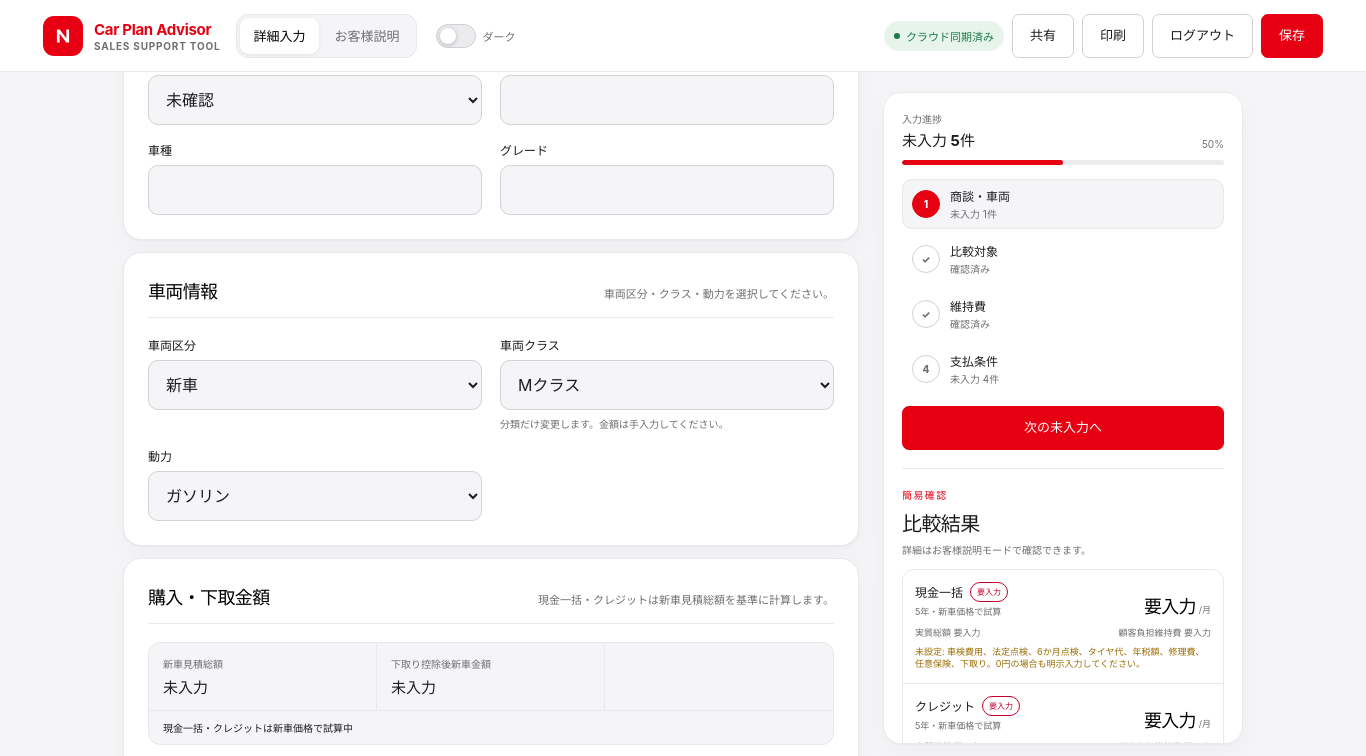
Scenario: App › uses the used-car price field and shows the price basis
(page scrolled)
Select "中古車" in the dropdown named "車両区分". click: (315, 385)
box: [148, 360, 482, 410]
(page scrolled)
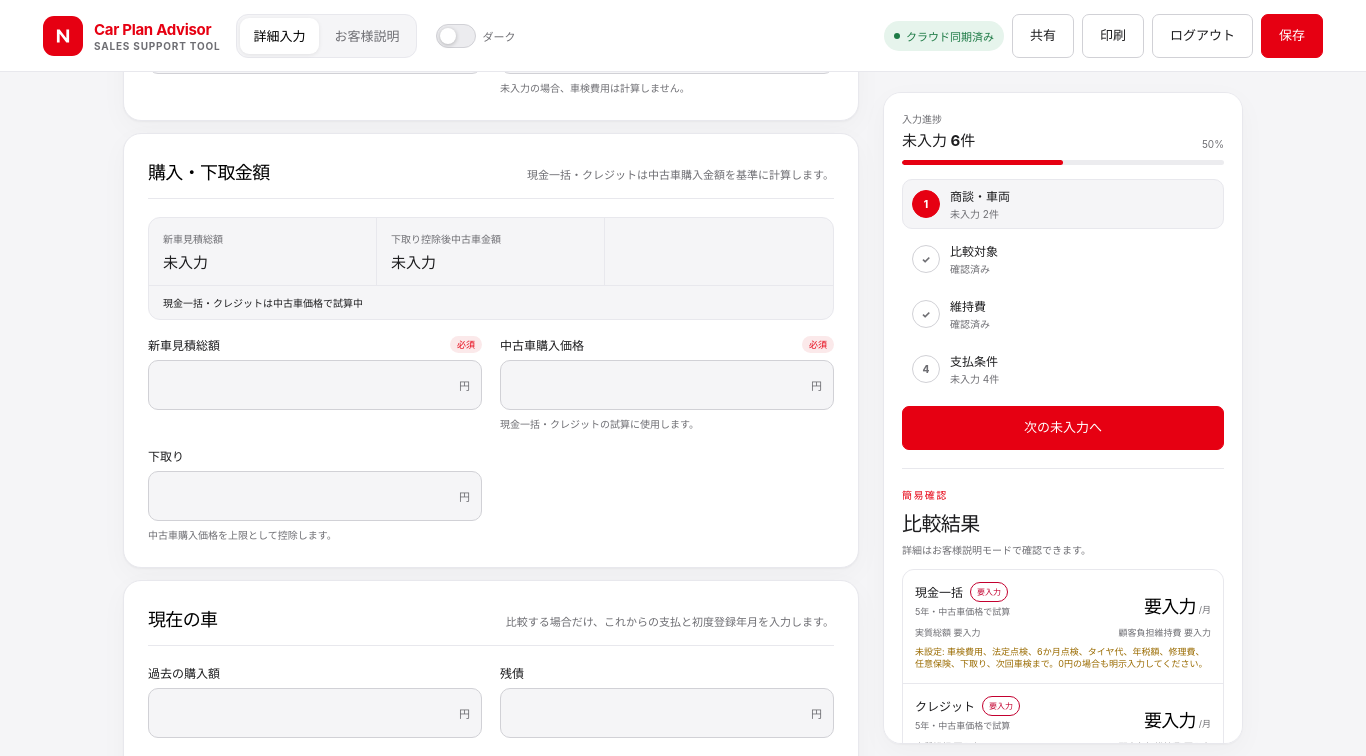
Type "2800000" into the field labelled "中古車購入価格". click: (667, 385)
box: [500, 360, 834, 410]
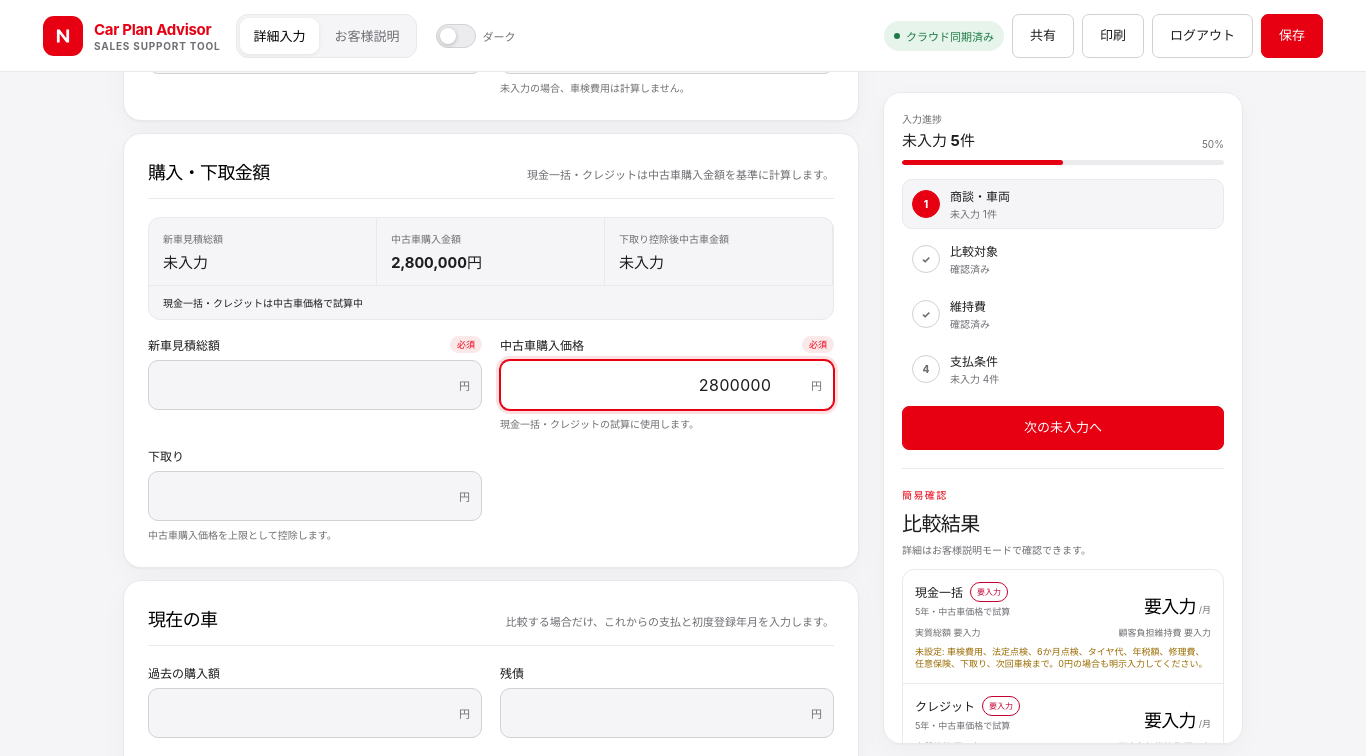
Result: the text "現金一括・クレジットは中古車価格で試算中" is shown at [149, 285, 833, 319]
Result: the text "中古車購入金額" is shown at [391, 233, 461, 245]
Click the button "4 支払条件 未入力 4件". click: (974, 362)
box: [902, 344, 1224, 394]
(page scrolled)
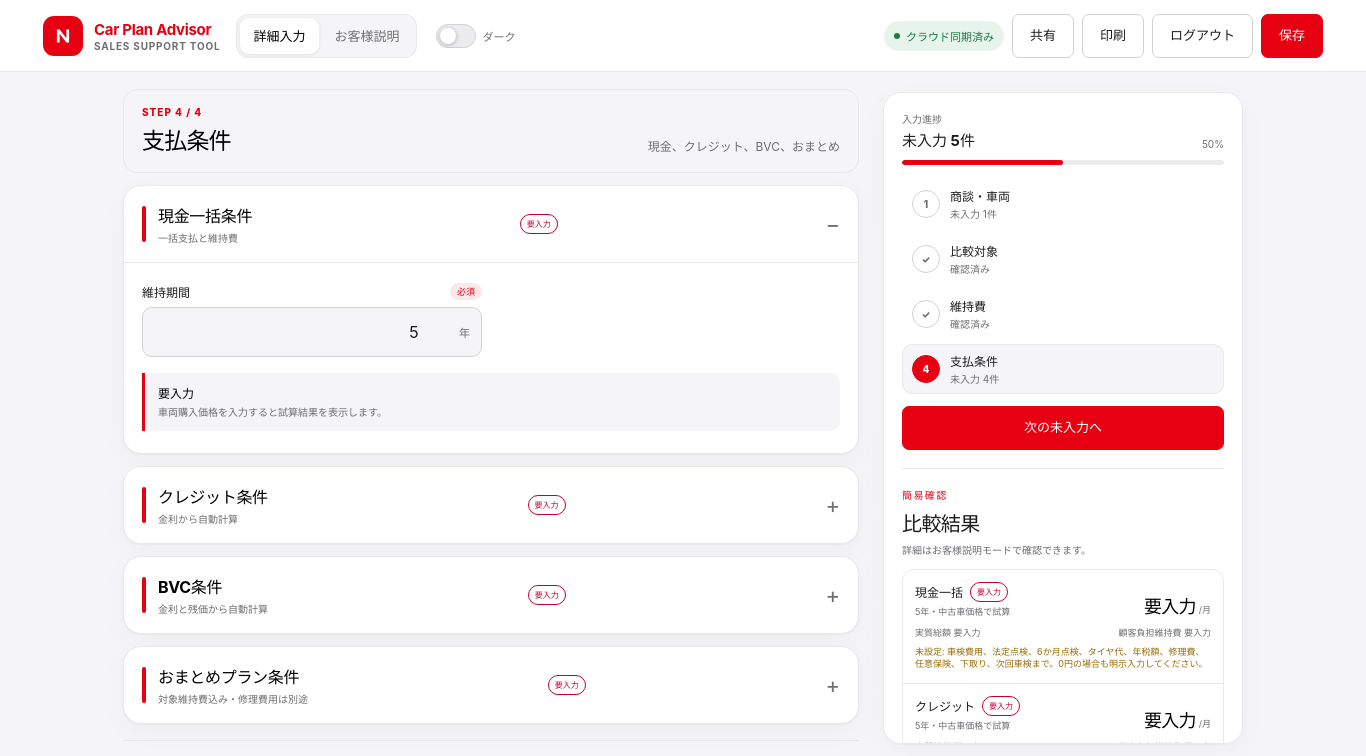
Click the heading "おまとめプラン条件 対象維持費込み・修理費用は別途 要入力". click: (229, 677)
box: [142, 667, 586, 705]
(page scrolled)
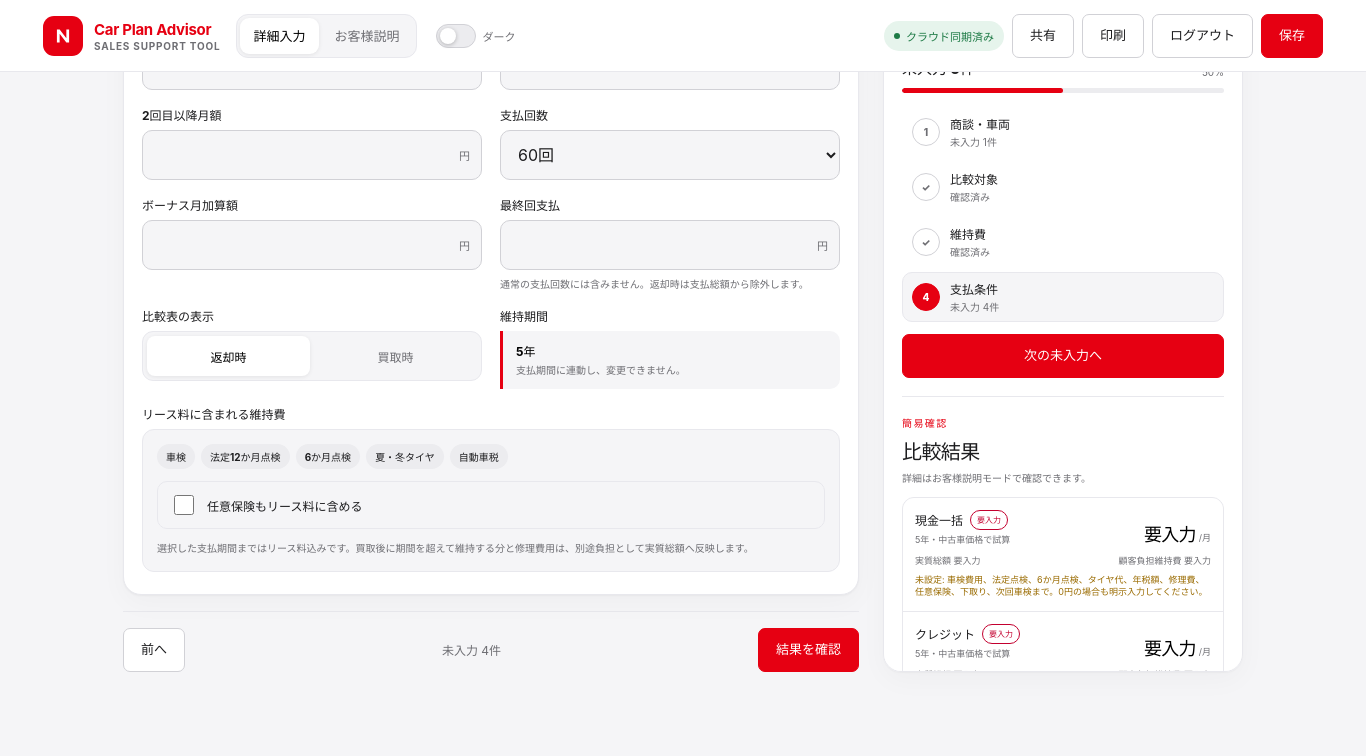
Result: the text "リース料に含まれる維持費" is shown at [142, 407, 285, 422]
Result: the checkbox labelled "任意保険もリース料に含める" is shown at [174, 495, 194, 515]
